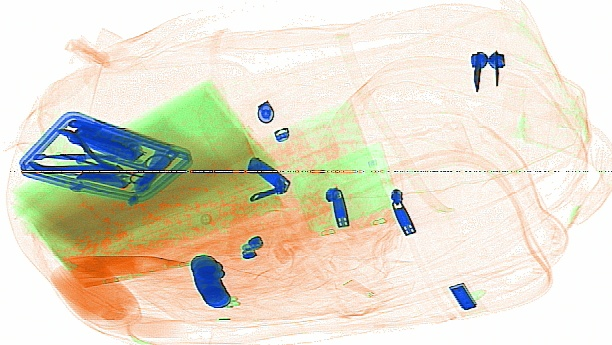qianzi: (27, 128, 126, 174)
scissor: (91, 144, 171, 194)
